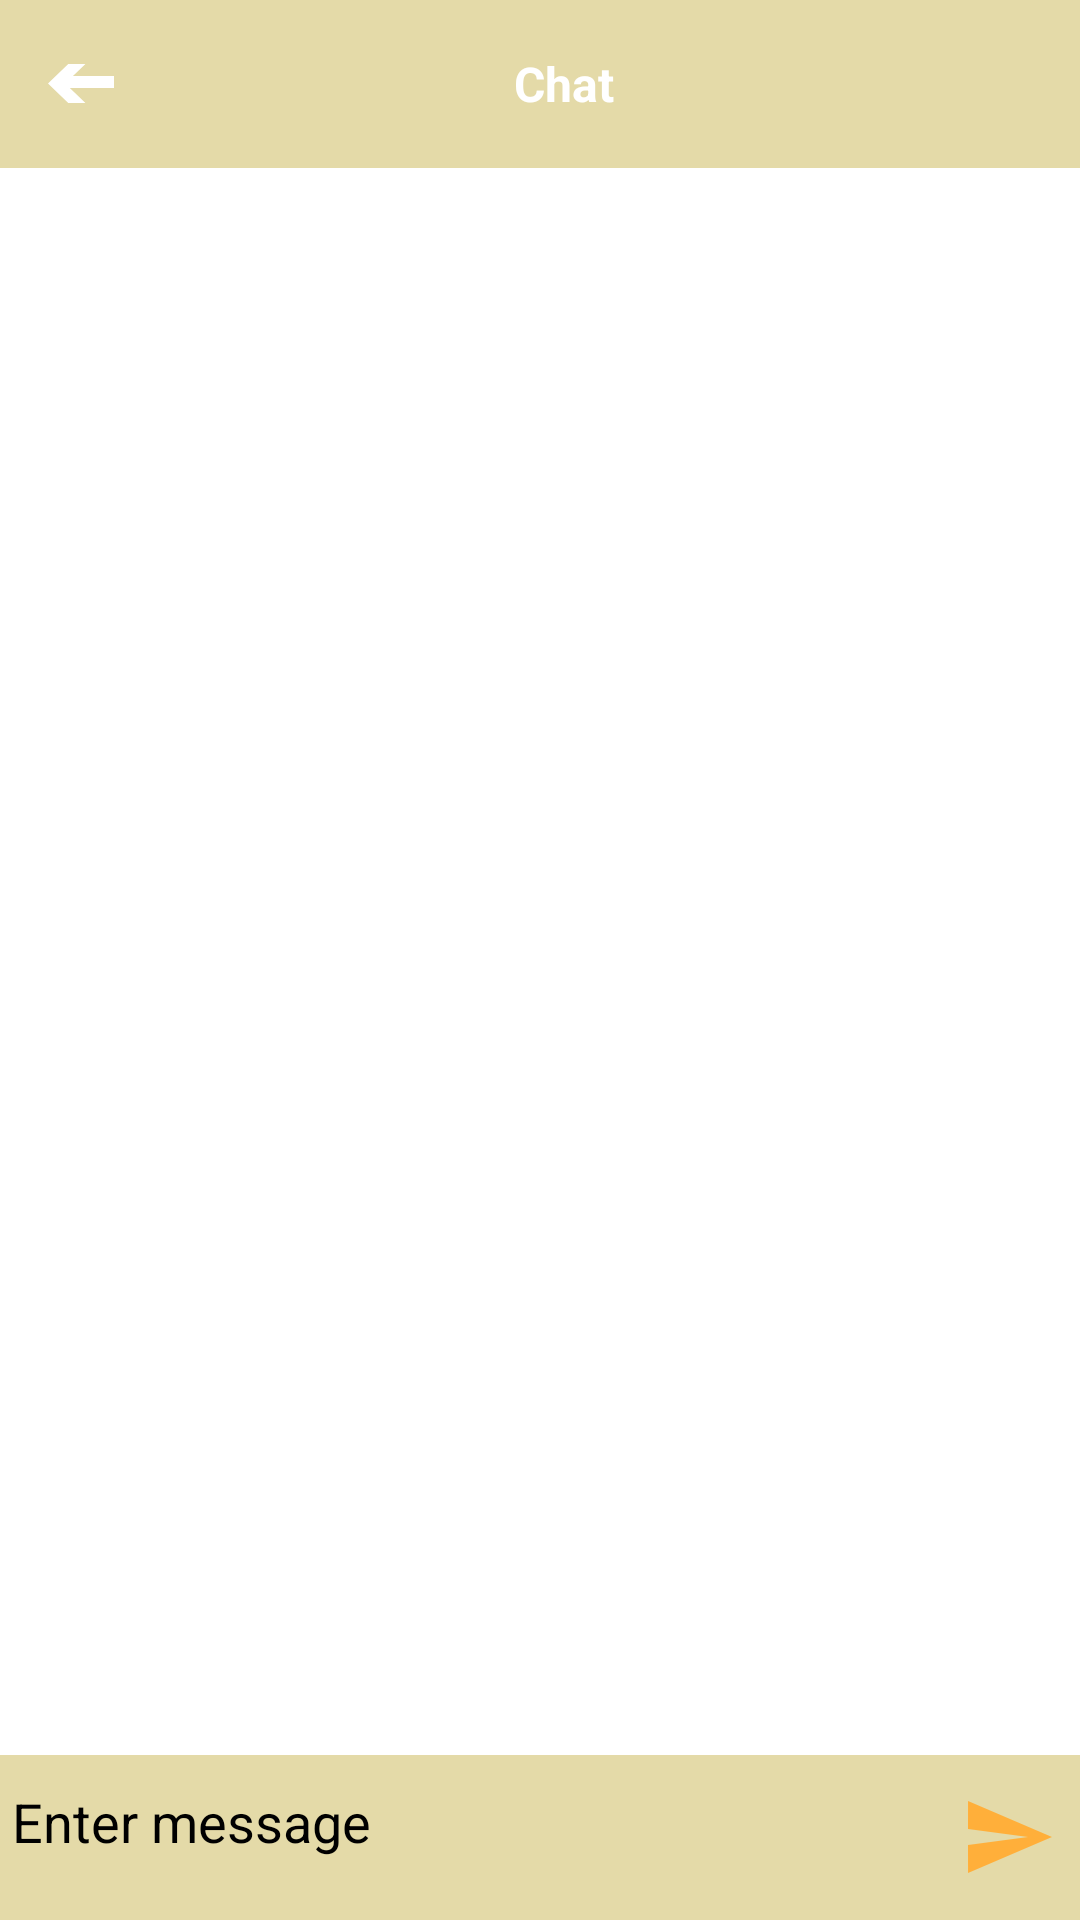

Icon click points for this 1080px×1920px phone screenshot, format (x=x, y=y):
backw: (x=81, y=83)
send: (x=1009, y=1837)
